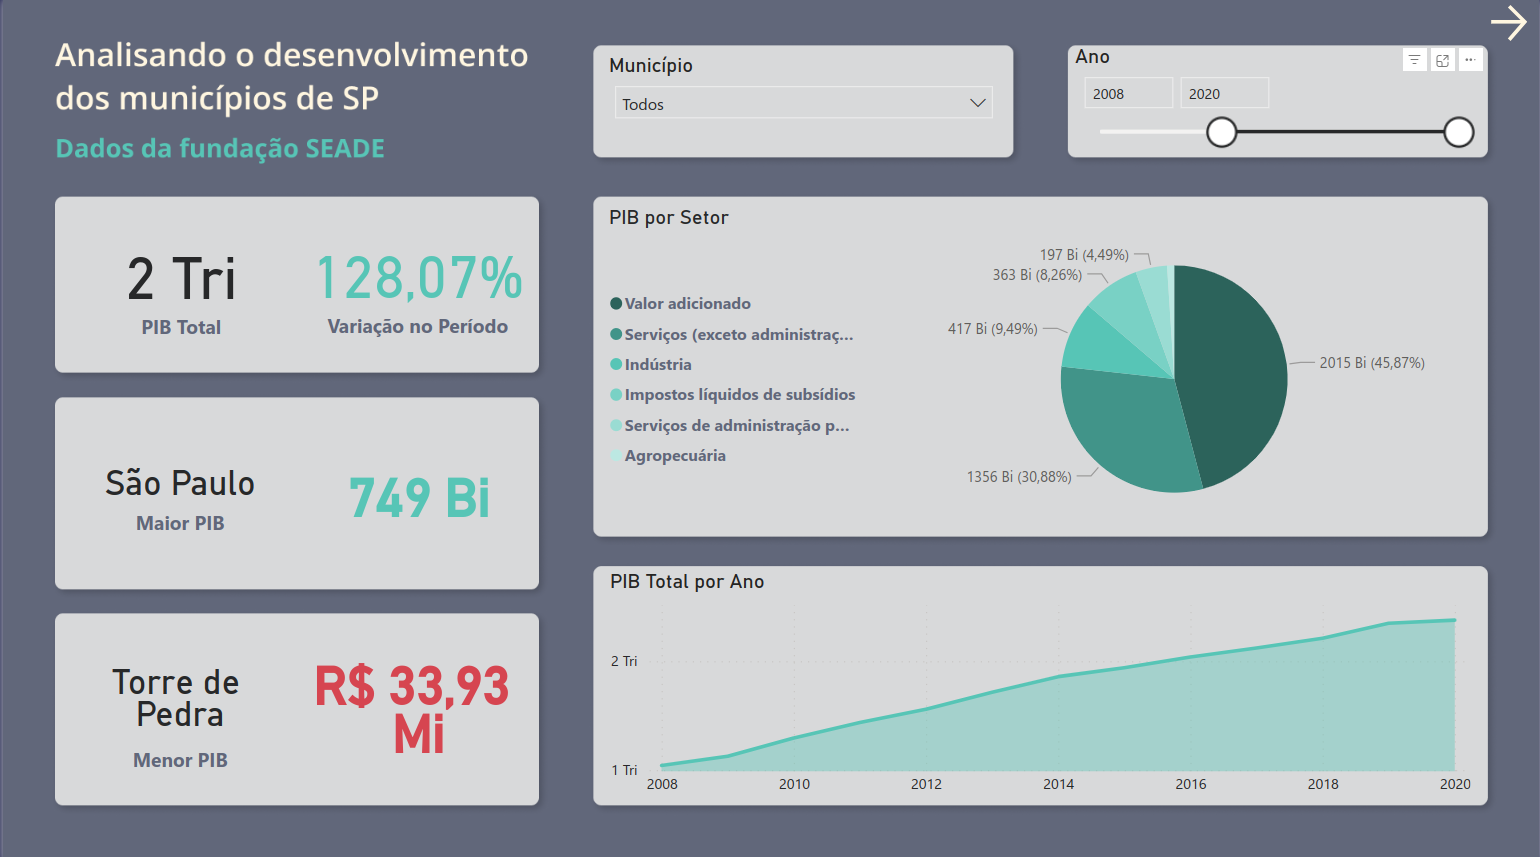

Layout of this report page (visuals, bound fields, positions):
{"tool":"powerbi","page":{"name":"PIB","canvas":[1280,720],"ordinal":0},"visuals":[{"type":"card","fields":{"Values":["Sum(pib.Valor)"]},"box":[49.6,165.8,196.8,143.6],"z":0},{"type":"pieChart","title":"PIB por Setor","fields":{"Category":["pib.Setor"],"Y":["Sum(pib.Valor)"]},"box":[500.1,173.8,734.2,269.6],"z":1000},{"type":"areaChart","title":"PIB Total por Ano","fields":{"Y":["Sum(pib.Valor)"],"Category":["pib.Ano"]},"box":[500.5,477.2,727,195.3],"z":2000},{"type":"slicer","title":"Ano","fields":{"Values":["pib.Ano"]},"box":[888.3,39.8,346,92.3],"z":3000},{"type":"slicer","title":"Município","fields":{"Values":["pib.Localidade"]},"box":[500.1,47.9,335.2,84.2],"z":4000},{"type":"card","fields":{"Values":["MedidasPIB.MaiorPIB"]},"box":[246.9,336.3,198.3,149.7],"z":5000},{"type":"card","fields":{"Values":["MedidasPIB.MenorPIB"]},"box":[246.9,515.1,198.3,153.6],"z":6000},{"type":"card","fields":{"Values":["MedidasPIB.MunicipioMenorPIB"]},"box":[49.6,515.1,197.3,157.4],"z":7000},{"type":"card","fields":{"Values":["MedidasPIB.MunicipioMaiorPIB"]},"box":[49.6,336.3,197.3,149.7],"z":8000},{"type":"card","fields":{"Values":["MedidasPIB.Variacao"]},"box":[246.5,165.8,197.7,142.8],"z":9000},{"type":"actionButton","box":[1234.3,0,45.7,39.8],"z":10000}]}

Visuals, with their boxes in screenshot pixels (x1, y1, x2, y2), scaled from the page's 1280x720 canvas onto the 1540x857 screenshot:
card - Sum(pib.Valor): 60/197/296/368
"PIB por Setor" pieChart: 602/207/1485/528
"PIB Total por Ano" areaChart: 602/568/1477/800
"Ano" slicer: 1069/47/1485/157
"Município" slicer: 602/57/1005/157
card - MedidasPIB.MaiorPIB: 297/400/536/578
card - MedidasPIB.MenorPIB: 297/613/536/796
card - MedidasPIB.MunicipioMenorPIB: 60/613/297/800
card - MedidasPIB.MunicipioMaiorPIB: 60/400/297/578
card - MedidasPIB.Variacao: 297/197/534/367
actionButton: 1485/0/1539/47
